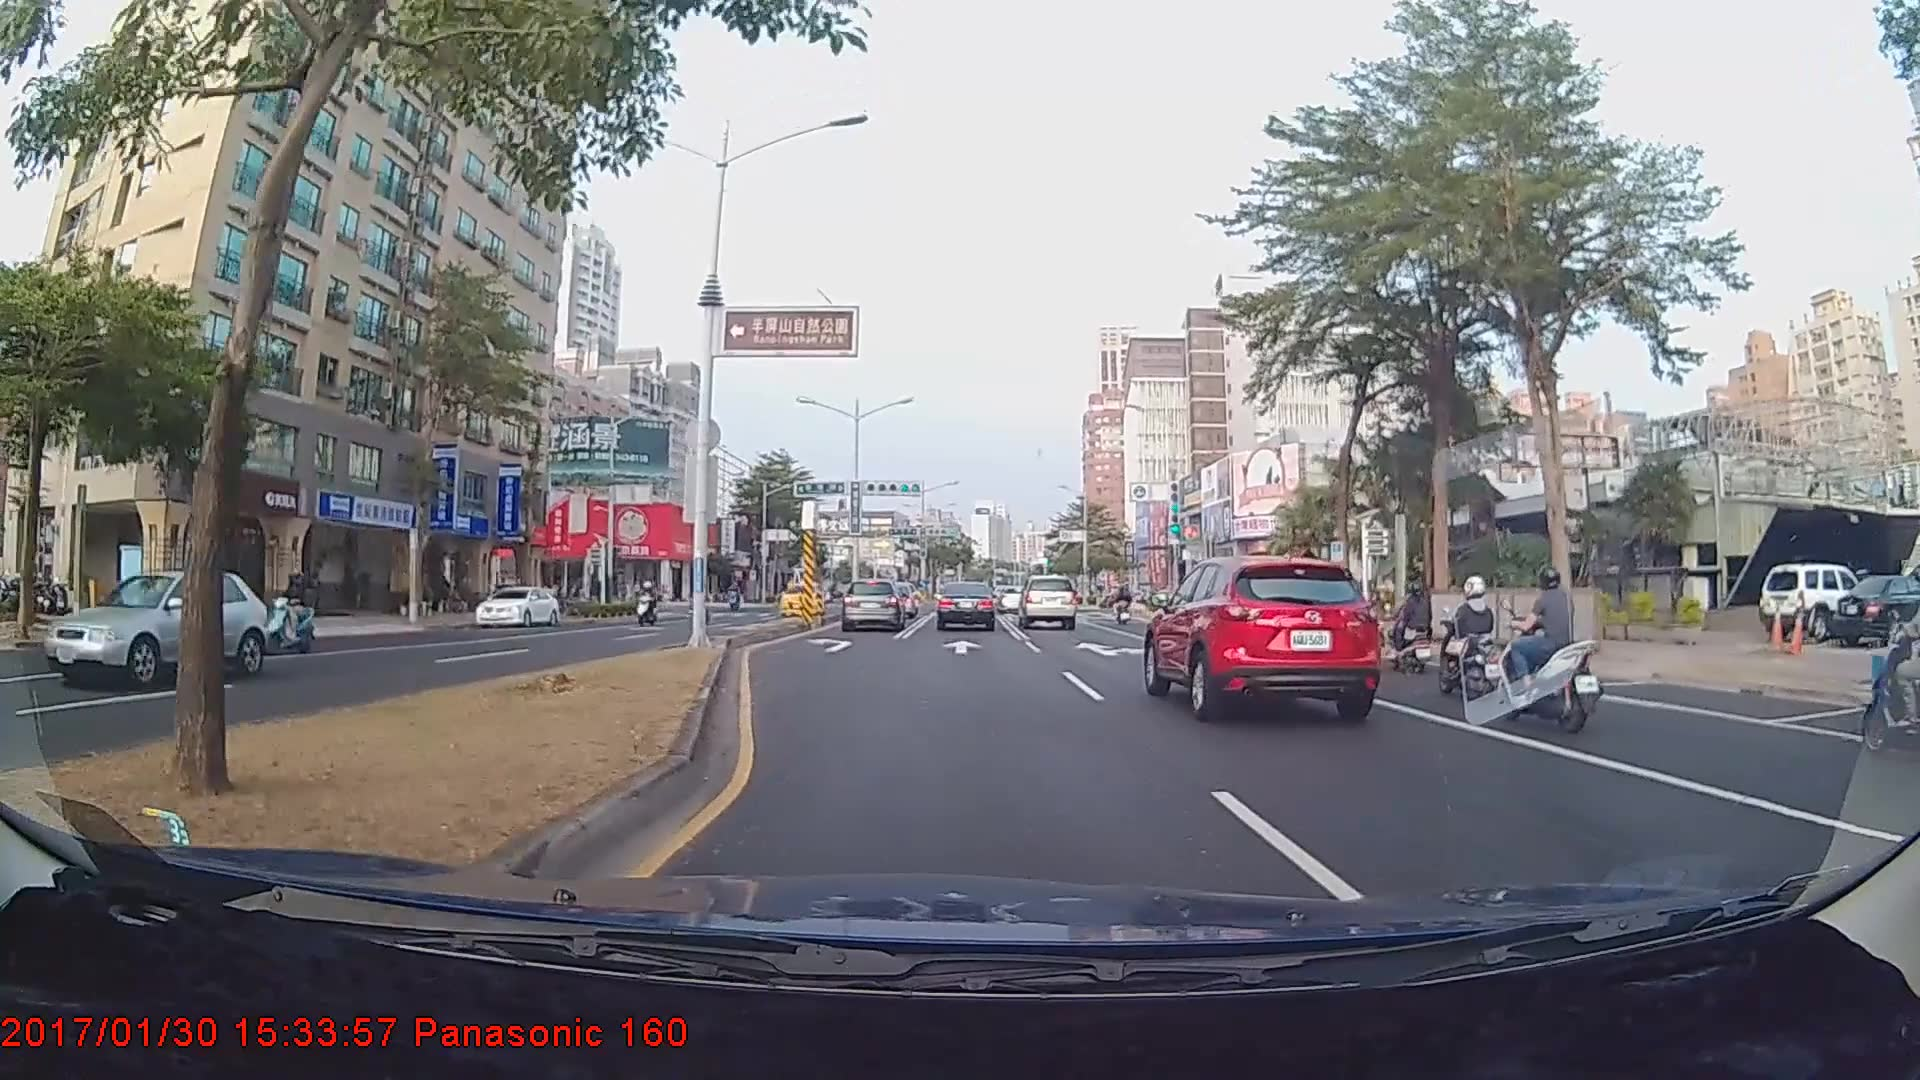rider: (1493, 564, 1608, 735), (1431, 569, 1510, 694), (1379, 574, 1439, 674), (261, 570, 324, 658), (628, 576, 665, 636)
vehicle: (1149, 550, 1381, 717), (42, 567, 267, 694), (1757, 563, 1867, 638), (475, 584, 559, 630), (839, 577, 906, 632), (1018, 573, 1079, 631), (936, 580, 996, 632), (778, 582, 826, 618)
